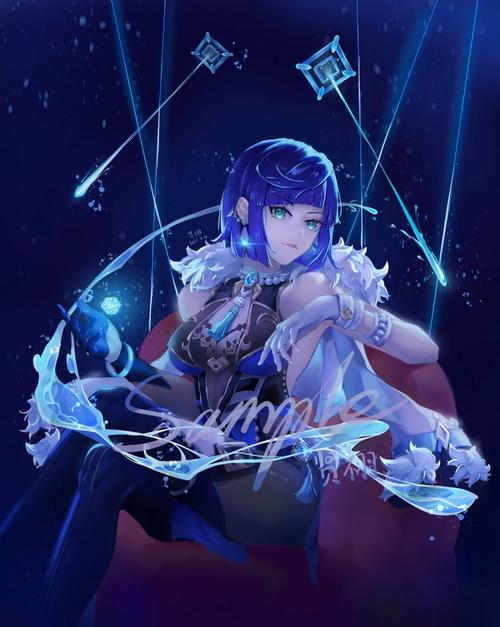夜兰: (6, 132, 441, 627)
